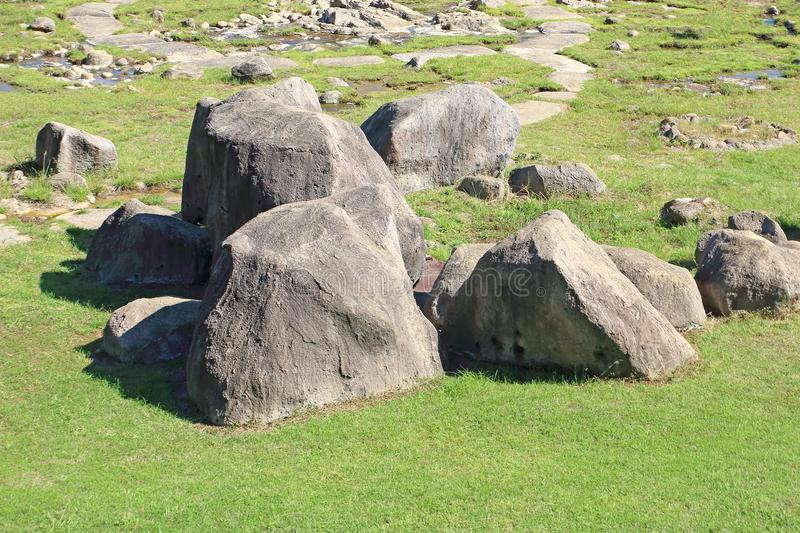grass: (9, 389, 794, 530), (605, 14, 794, 201), (4, 208, 83, 386), (699, 319, 796, 383), (425, 196, 517, 243)
rock: (86, 74, 441, 429), (444, 210, 708, 384), (364, 77, 520, 203), (695, 211, 799, 317), (210, 2, 505, 38), (33, 118, 119, 180), (508, 157, 607, 203), (658, 195, 723, 230), (225, 58, 276, 84)
